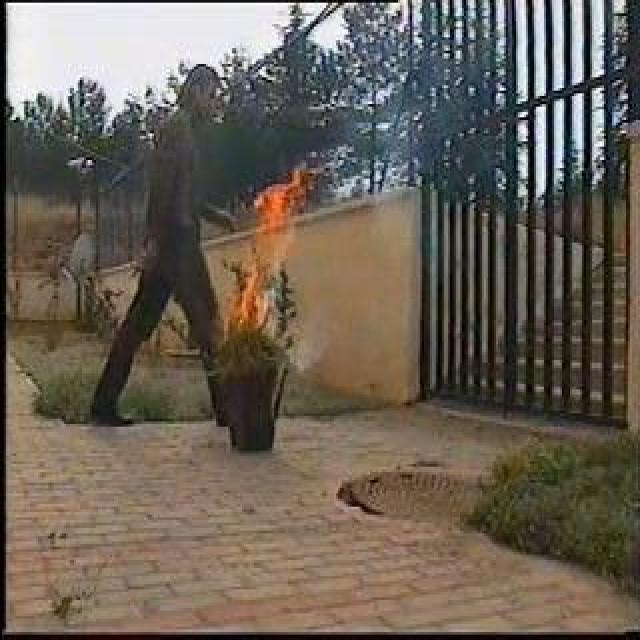fire: (237, 167, 305, 322)
smoke: (284, 324, 332, 368)
